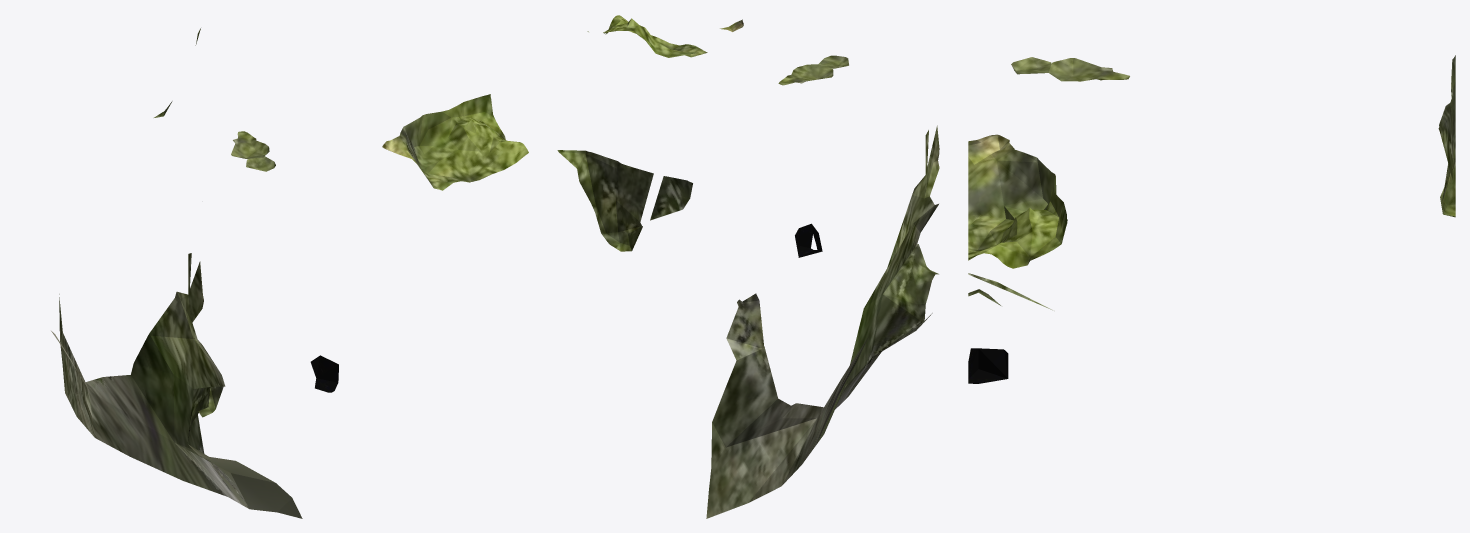
The picture shows the model from 3 angles, left to right: view 1: azimuth 30°, elevation 25°; view 2: azimuth 150°, elevation 25°; view 3: azimuth 270°, elevation 25°; orthographic projection. The views are drawn at different scales.
Size of the model in its own units: 2.95 by 2.95 by 2.95.
Materials: 2 (2 with a texture image).
